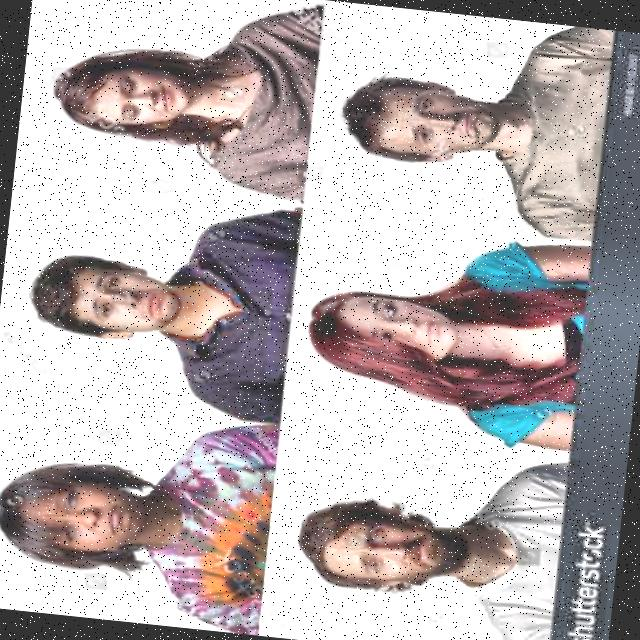neutral: (43, 27, 232, 163)
sad: (310, 56, 522, 196), (21, 236, 204, 371), (281, 481, 465, 608), (308, 262, 470, 395), (0, 442, 151, 578)
